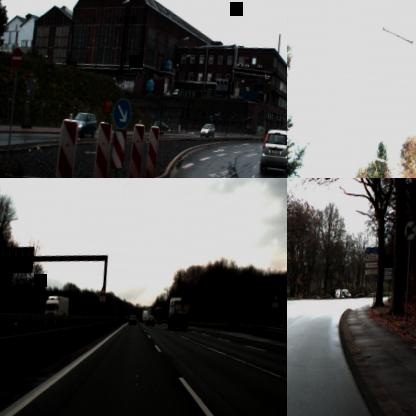NO ENTRY: (10, 46, 22, 69)
keep right: (112, 96, 132, 129)
restriction ends -overtaking-: (402, 218, 416, 241)
uneven road: (272, 290, 280, 303), (99, 284, 107, 296)
